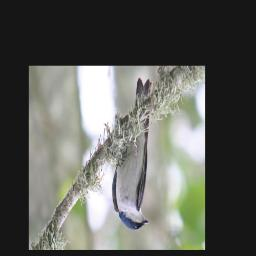Swallow: (111, 76, 154, 232)
